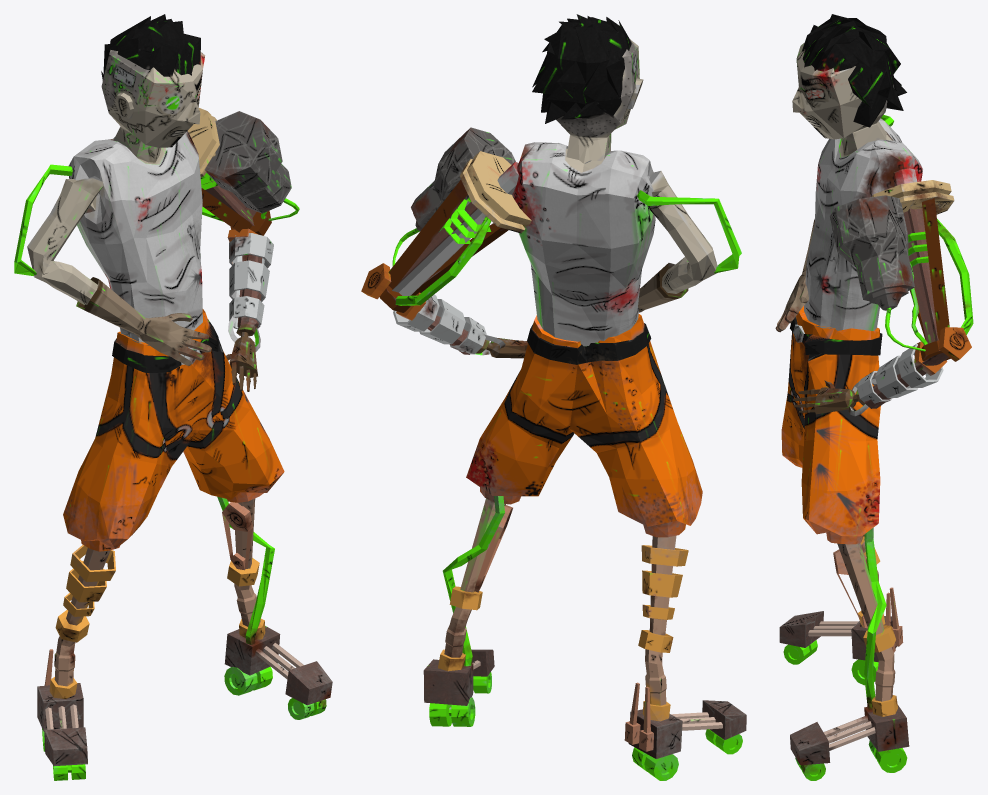
File: CyborgFINALAnimation_000009.obj
The picture shows the model from 3 angles, left to right: view 1: azimuth 30°, elevation 25°; view 2: azimuth 150°, elevation 25°; view 3: azimuth 270°, elevation 25°; orthographic projection. The views are drawn at different scales.
Visible parts, largest first — view 1: CyborgMesh_Cube.002; view 2: CyborgMesh_Cube.002; view 3: CyborgMesh_Cube.002.
Part boxes in pixels (x1,y1,x2,y2): CyborgMesh_Cube.002: (14, 14, 332, 780); CyborgMesh_Cube.002: (361, 14, 746, 780); CyborgMesh_Cube.002: (775, 14, 973, 780).
Size of the model in its own units: 4.38 by 9.62 by 2.48.
